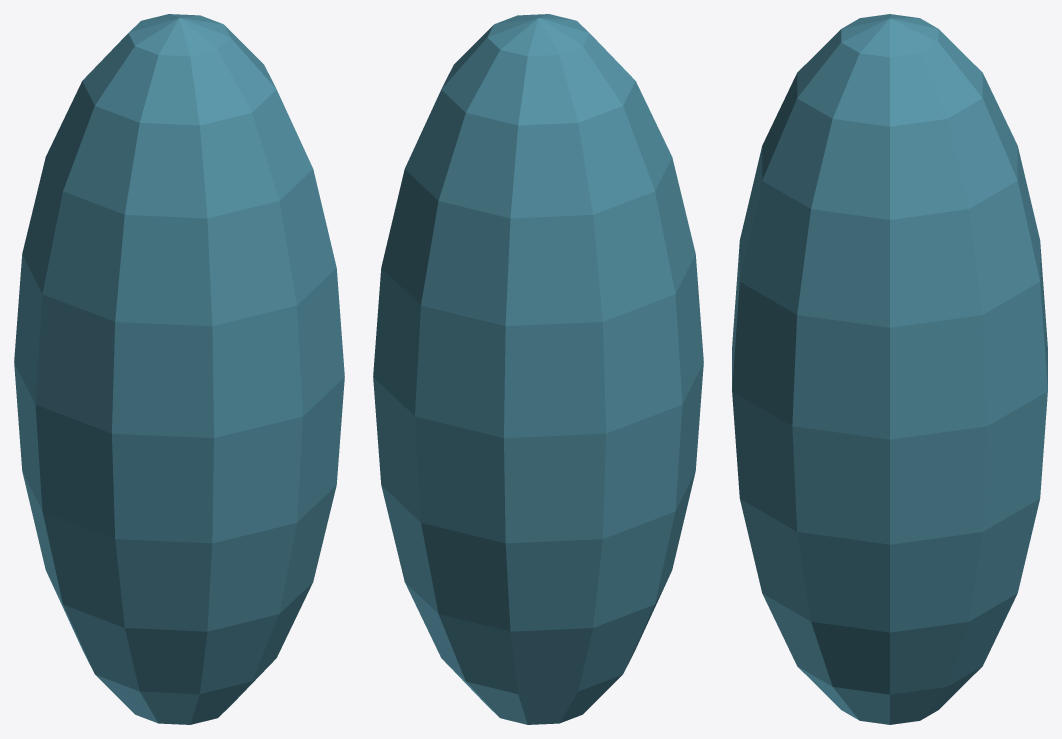
Rendered from Power_Up_Glide.fbx.
The picture shows the model from 3 angles, left to right: view 1: azimuth 30°, elevation 25°; view 2: azimuth 150°, elevation 25°; view 3: azimuth 270°, elevation 25°; orthographic projection.
Parts seen in each view (by area): view 1: Power_Up_Glide; view 2: Power_Up_Glide; view 3: Power_Up_Glide.
Part boxes in pixels (x1,y1,x2,y2): Power_Up_Glide: (14,14,344,724); Power_Up_Glide: (373,14,703,724); Power_Up_Glide: (732,14,1047,724).
Bounding box in the file's own units: 1.17 × 2.73 × 1.11.
